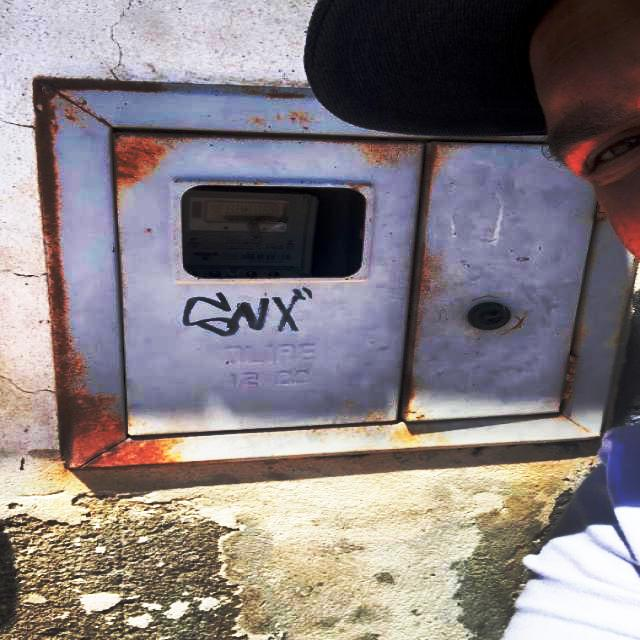Corrosion: (28, 76, 194, 474), (109, 131, 421, 199), (395, 142, 446, 426), (560, 336, 589, 410), (258, 90, 312, 101)
